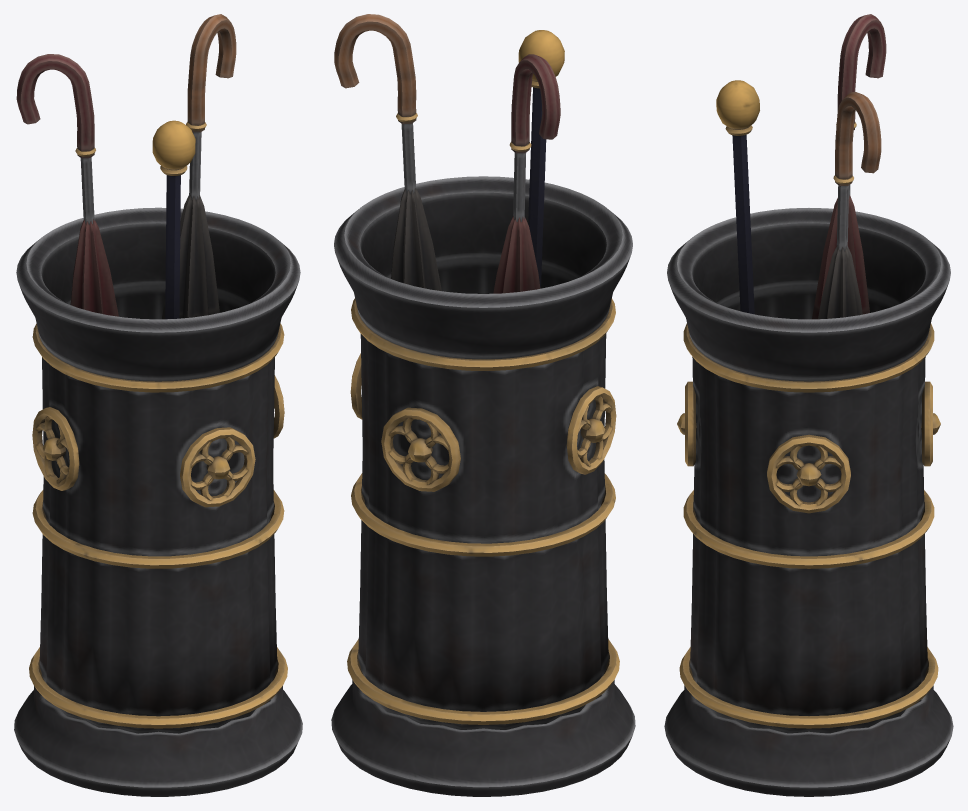
File: UmbrellaStand.fbx
3 renders of one model, left to right at view 1: azimuth 30°, elevation 25°; view 2: azimuth 150°, elevation 25°; view 3: azimuth 270°, elevation 25°, orthographic. The views are drawn at different scales.
Parts seen in each view (by area): view 1: UmbrellaStand; view 2: UmbrellaStand; view 3: UmbrellaStand.
Boxes of the visible parts, x1,y1,x2,y2 form: UmbrellaStand: (14,14,302,796); UmbrellaStand: (331,14,635,796); UmbrellaStand: (664,14,953,796).
Size of the model in its own units: 116 by 302 by 116.
